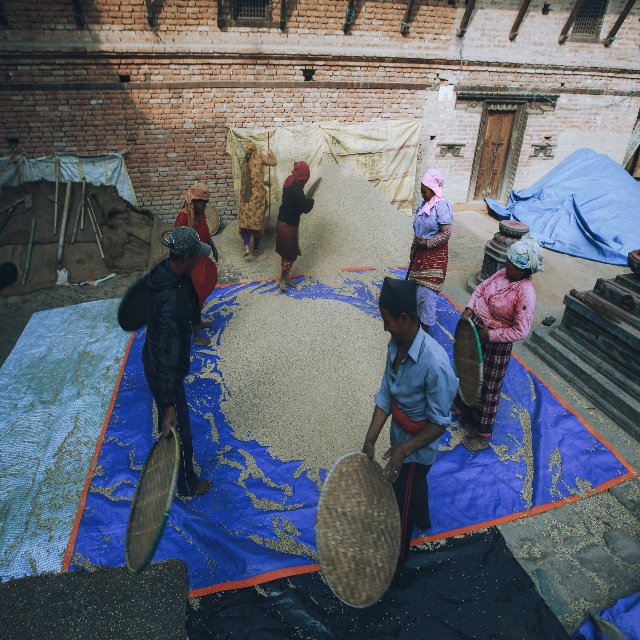Sin_guantes: (382, 449, 405, 482), (160, 411, 176, 438), (362, 437, 375, 460), (477, 322, 490, 343), (460, 307, 473, 320), (416, 234, 427, 247), (212, 246, 219, 264), (409, 249, 416, 261)
